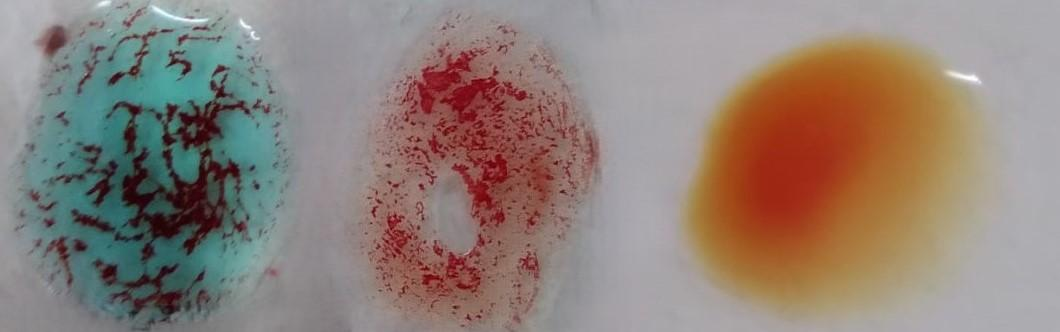A: (24, 4, 294, 332)
D: (369, 12, 576, 332)
